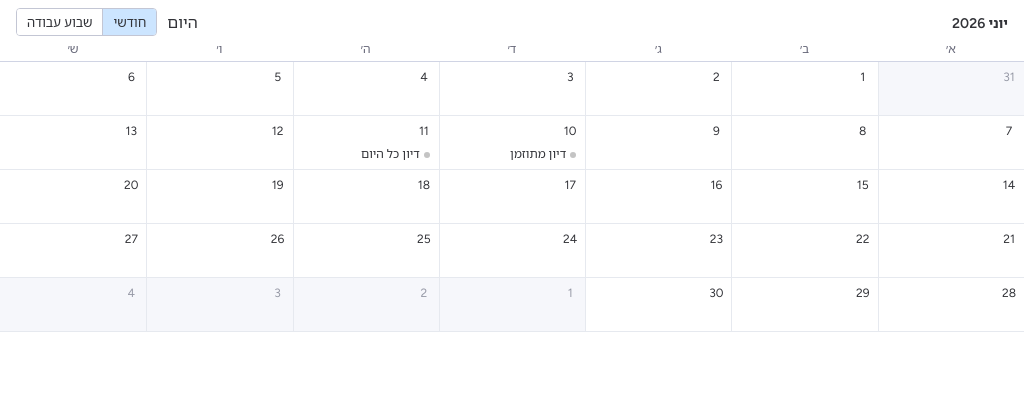
Scenario: DiscussionCalendar chip hover actions › opens a hover menu with the full name and row actions
This screenshot has width=1024, height=393.
Hover over the button "דיון מתוזמן" at (513, 154), box x1=444 y1=144 x2=581 y2=165
Wait 200 ms
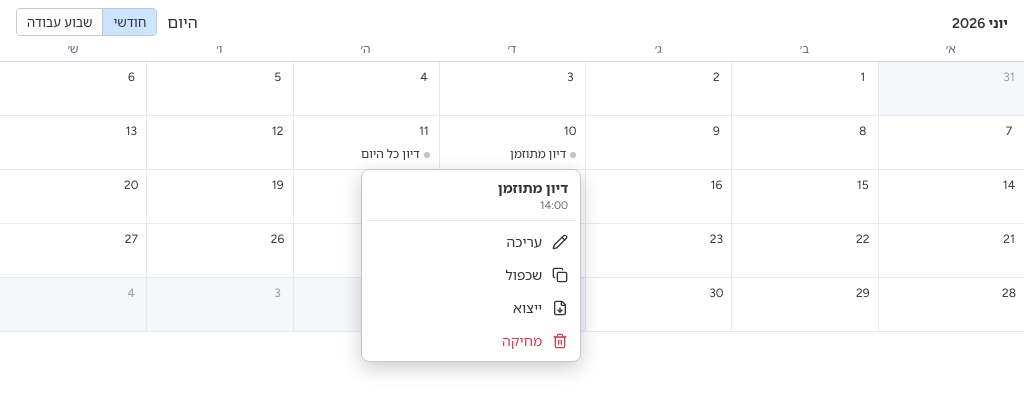
Check: the 2nd text "דיון מתוזמן" is shown, box x1=498 y1=180 x2=568 y2=197
Check: the menu item "עריכה" is shown, box x1=366 y1=225 x2=576 y2=258
Check: the menu item "שכפול" is shown, box x1=366 y1=258 x2=576 y2=291
